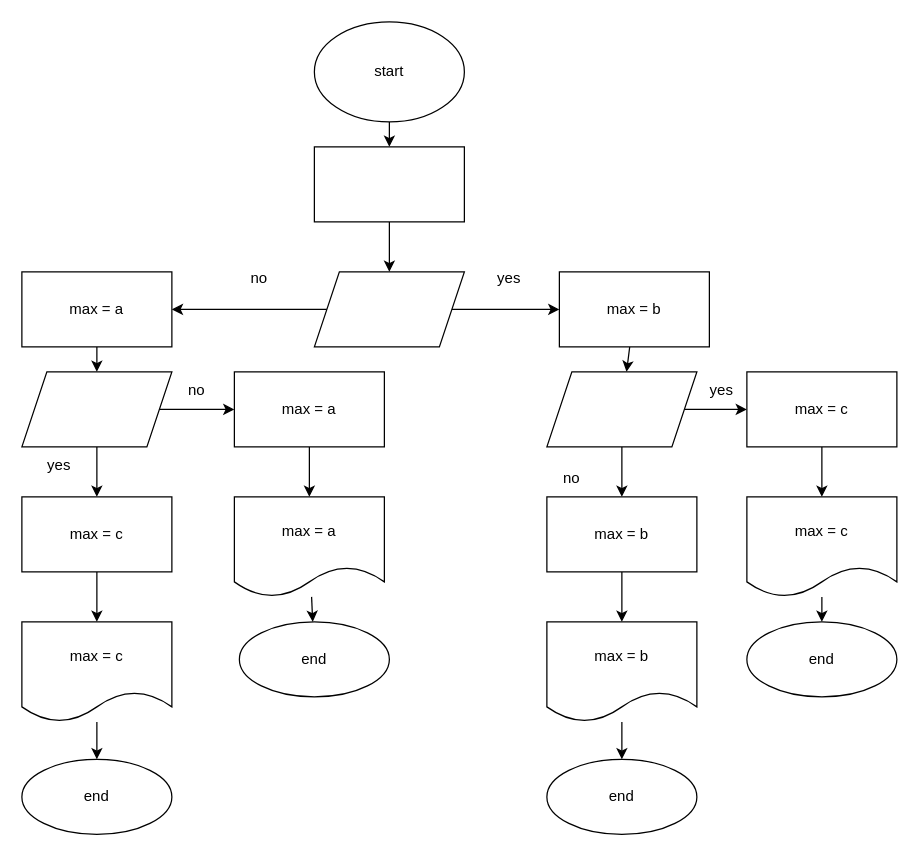
Image size: 919x856. Some labels were removed from this diagram. The box of each missing label's shape, as (x1, y1, x2, y2) in pixels:
a = 2 b = 3 c = 7 max = a: (313, 146, 464, 222)
b > max: (313, 271, 464, 347)
c > b: (546, 371, 697, 447)
c > max: (21, 371, 172, 447)
